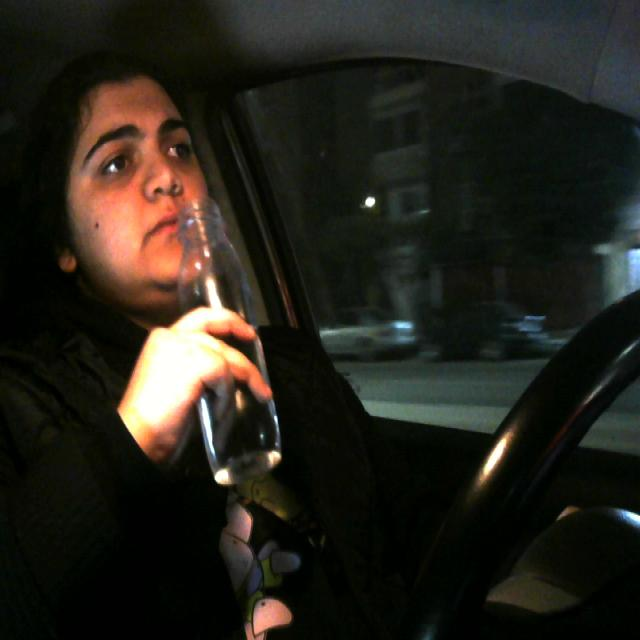drinking: (171, 194, 283, 488)
